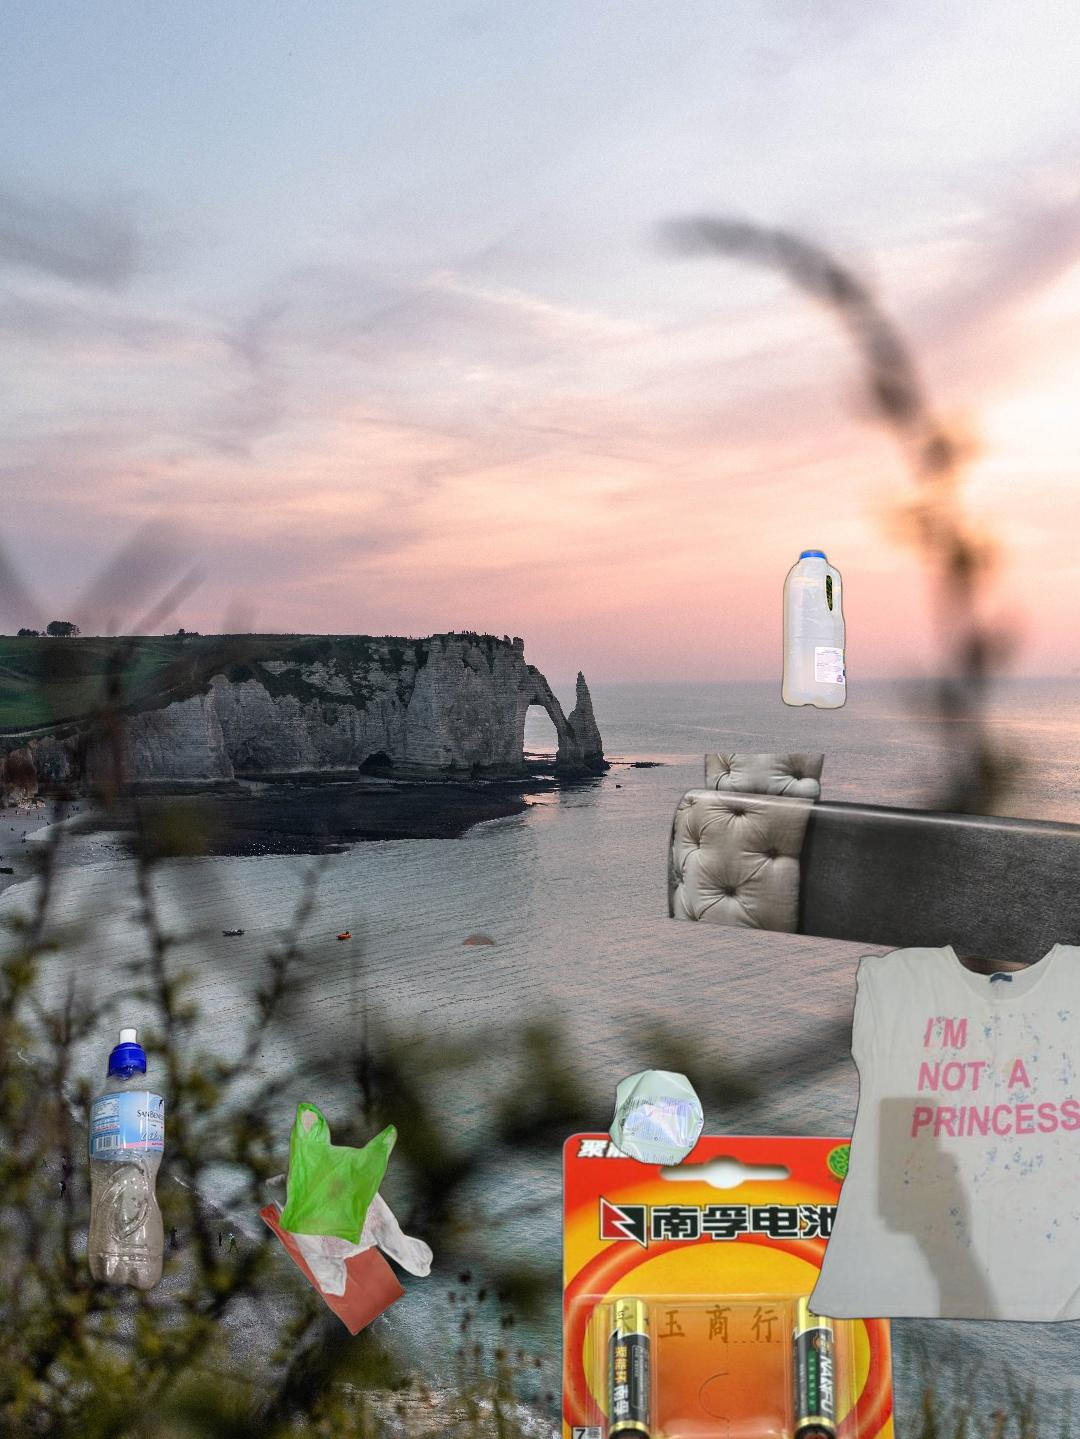battery: (556, 1131, 902, 1439)
clothes: (803, 937, 1080, 1327)
metal-cans: (605, 1063, 708, 1173)
paper: (650, 754, 1080, 1138)
plastic-bag: (254, 1099, 437, 1339)
plastic-bottles: (457, 545, 851, 945), (84, 1024, 204, 1295)
